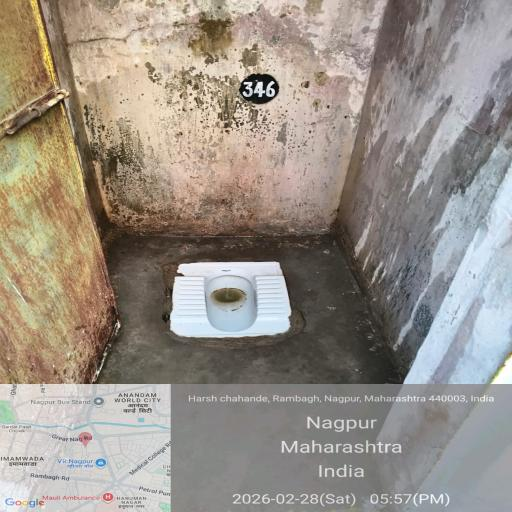dirty_floor: (91, 216, 512, 490), (77, 0, 512, 241), (0, 27, 125, 486)
dirty_indian: (131, 248, 304, 353)
